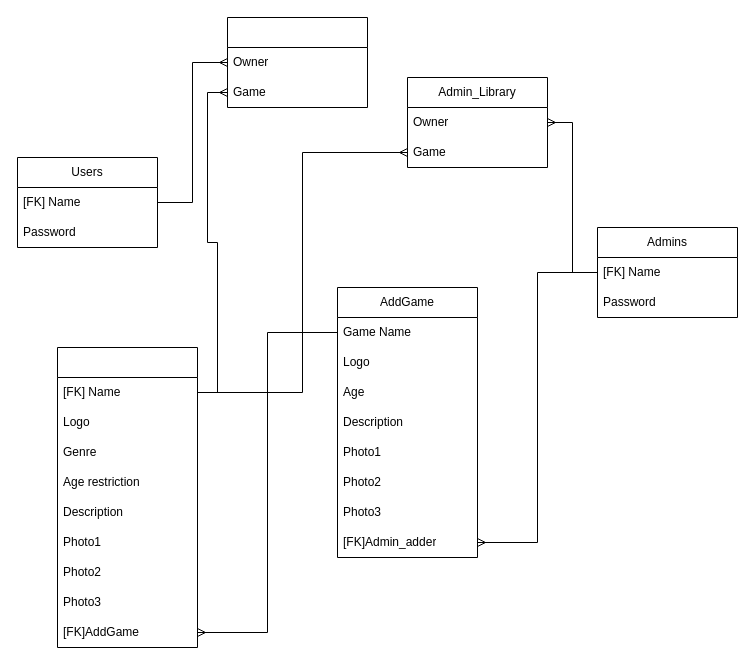
Some shapes in this 755 by 665 pixel diagram are drawn without their labels. The box of each missing label's shape, as (x1, y1, x2, y2) in pixels:
Games: (56, 346, 198, 648)
User_Library: (226, 16, 368, 108)
